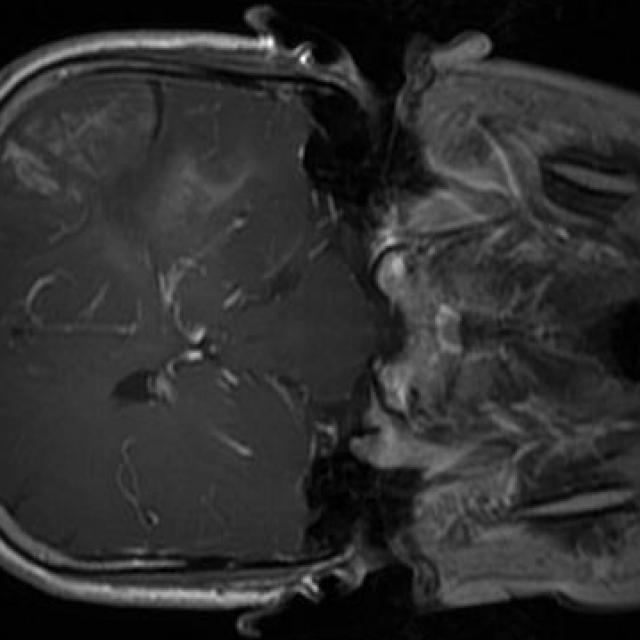glioma: (7, 82, 260, 266)
